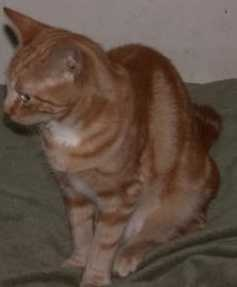Cat: (3, 7, 221, 284)
